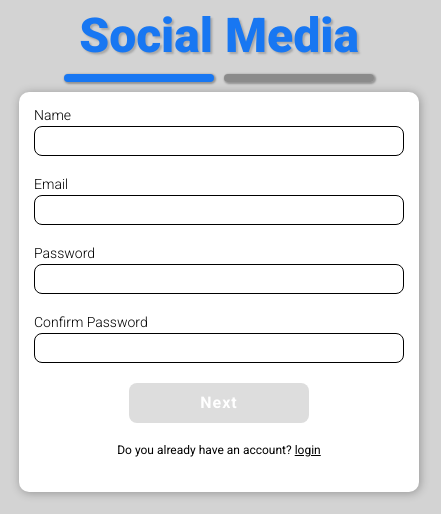
Registere page › next button should be enabled
Type "test" into the field with test id "nameInput". click: (219, 140)
box: [34, 126, 404, 156]
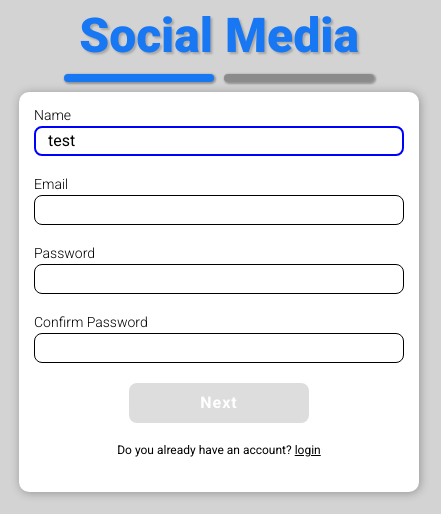
Type "email@test.com" into the field with test id "emailInput". click: (219, 210)
box: [34, 194, 404, 224]
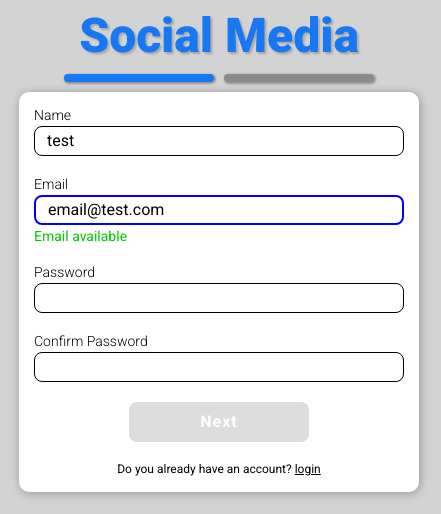
Type "123" into the password field with test id "passwordInput". click: (219, 298)
box: [34, 282, 404, 312]
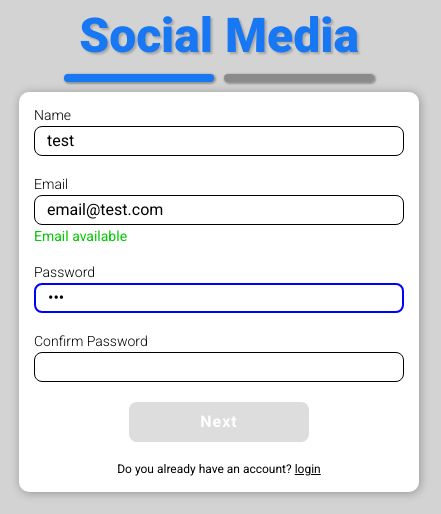
Type "123" into the password field with test id "confirmPasswordInput". click: (219, 366)
box: [34, 352, 404, 382]
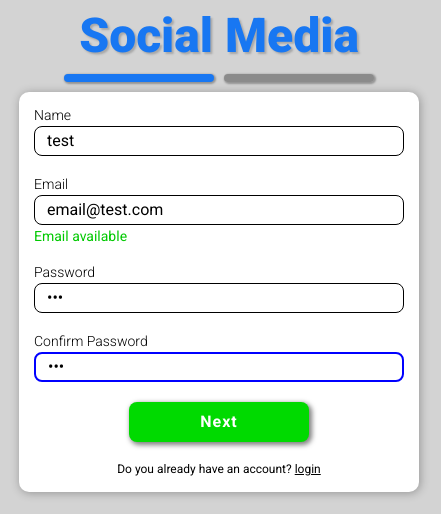
Expected: the button "Next" is enabled, [129, 402, 309, 442]
